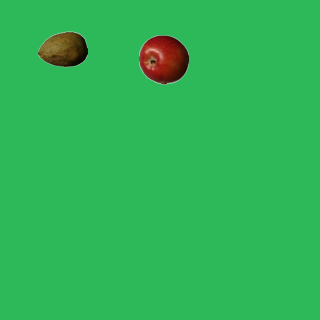Apple Braeburn: (138, 34, 188, 84)
Papaya: (37, 24, 87, 74)
